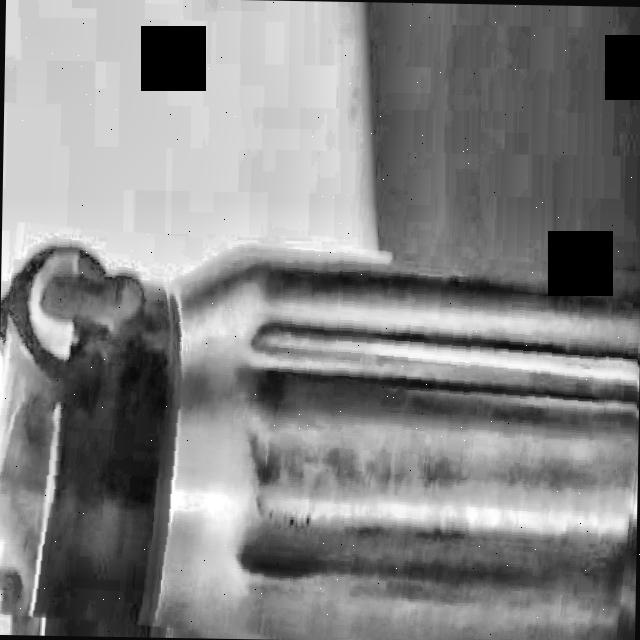bottle: (0, 240, 640, 640)
